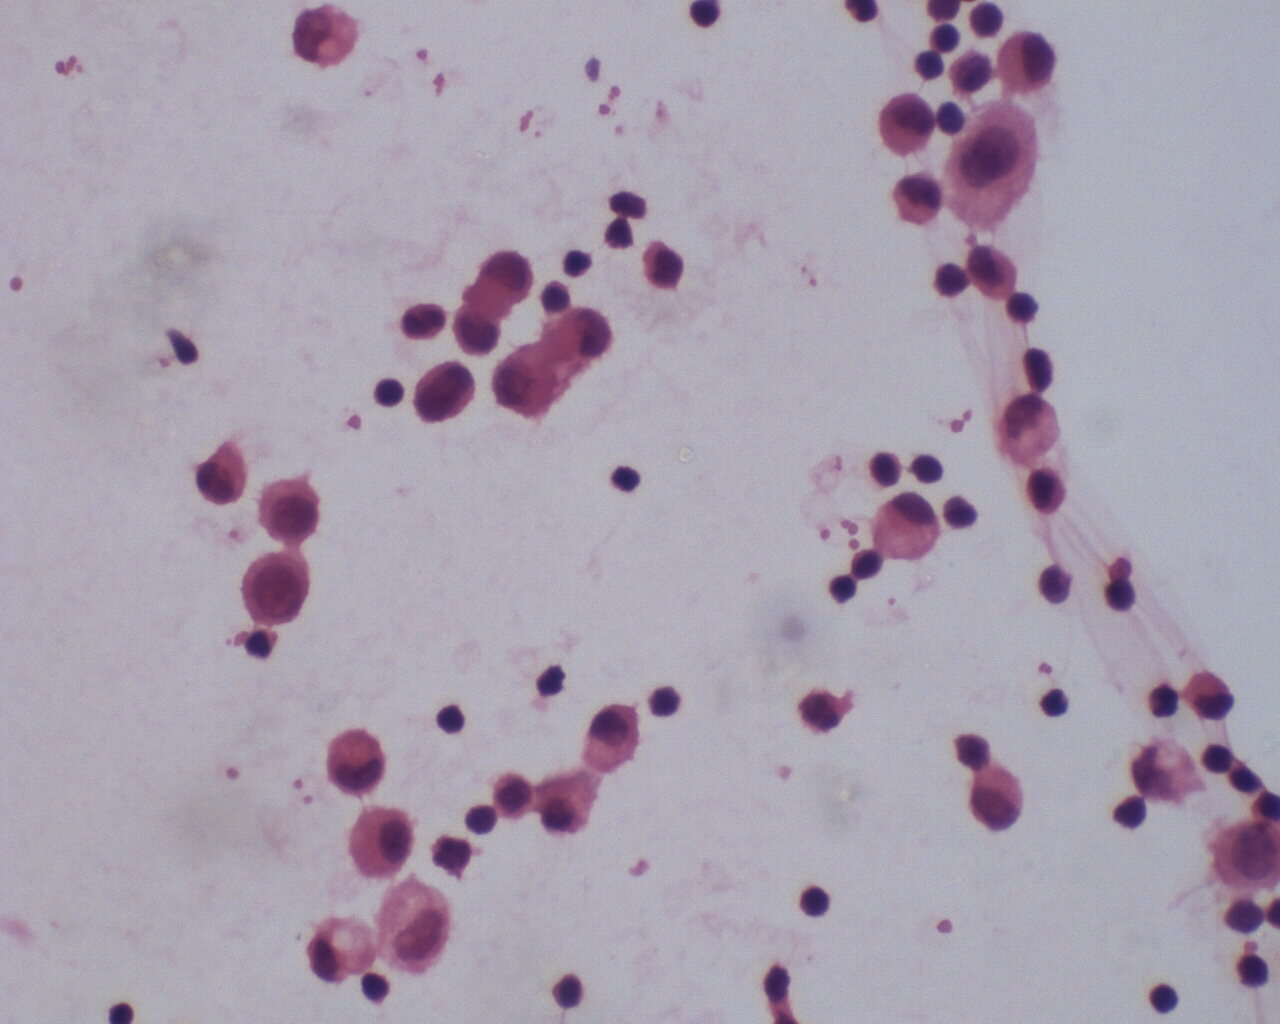ab: (240, 546, 315, 627), (255, 473, 320, 545), (969, 765, 1031, 835), (411, 359, 478, 424)
histo: (872, 488, 941, 566), (324, 721, 390, 796)
lymph: (1035, 684, 1077, 726), (1140, 981, 1188, 1017), (924, 20, 965, 59), (910, 449, 952, 487), (649, 683, 690, 720), (933, 260, 970, 298), (433, 699, 467, 739), (797, 882, 833, 920), (466, 802, 496, 845), (604, 462, 639, 497)
meso: (345, 800, 424, 885), (877, 87, 940, 160), (996, 27, 1058, 96)
